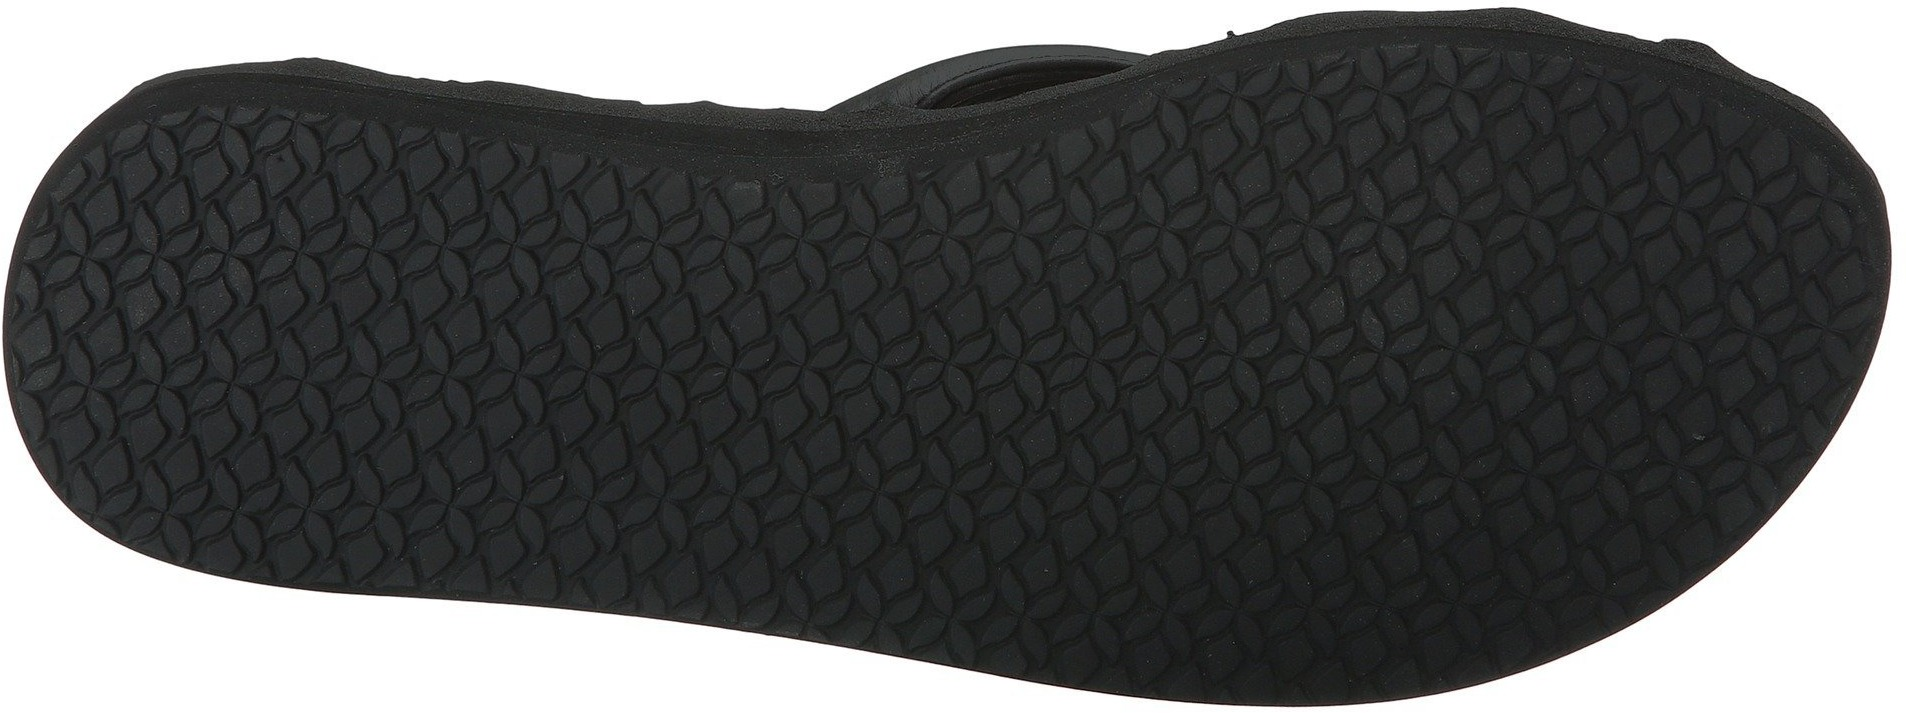quad: (1239, 83, 1791, 579), (785, 166, 1290, 643), (274, 141, 772, 610), (41, 193, 312, 434)
